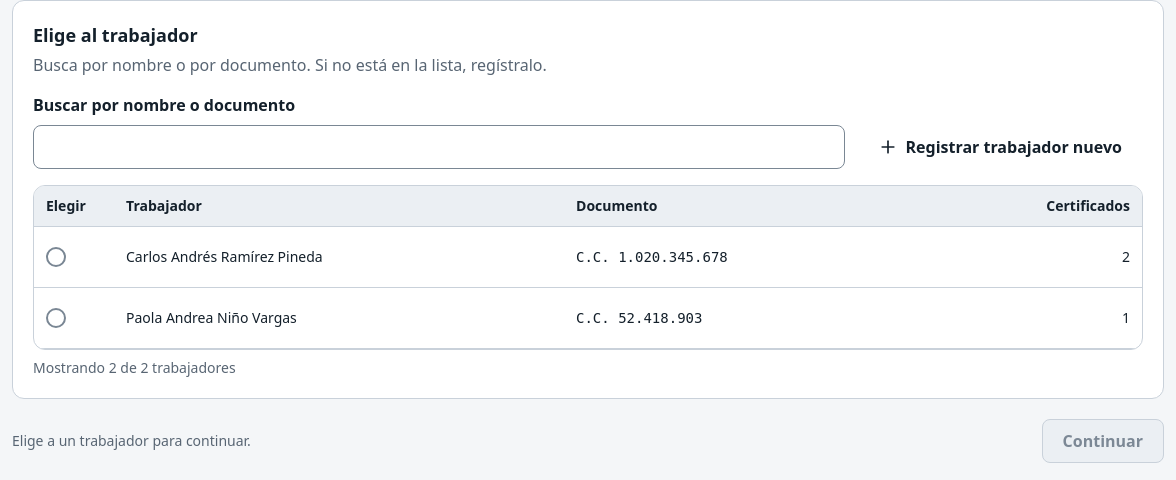
Test case: WorkerStep › finds a worker searching for ramirez
In the search field labelled "Buscar por nombre o documento": (439, 147) [33,125,844,169], type "ramirez"
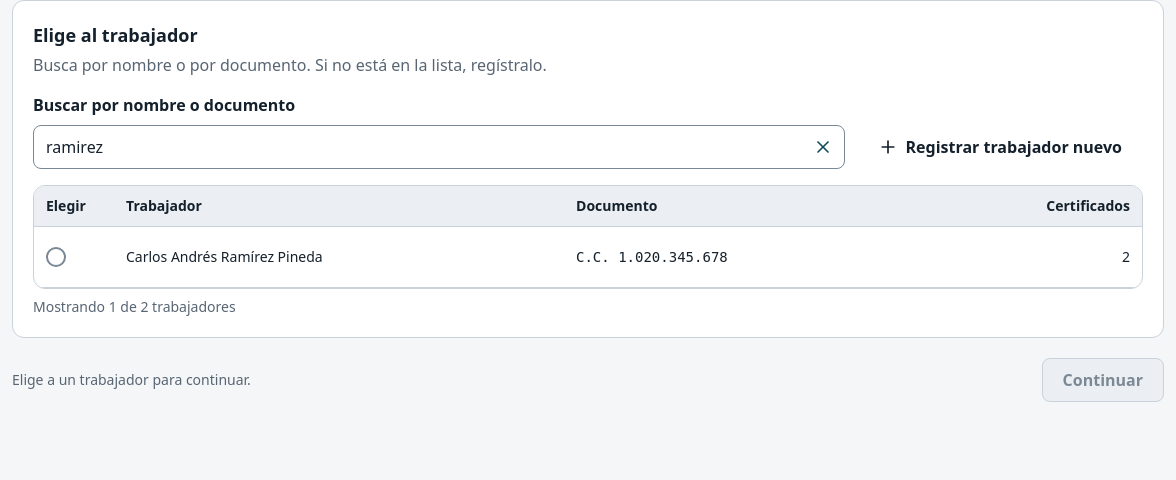
Expected: the text "Carlos Andrés Ramírez Pineda" is shown, [114,226,564,287]
Expected: the text "Paola Andrea Niño Vargas" is gone
Expected: the text "Mostrando 1 de 2 trabajadores" is shown, [33,296,236,316]
